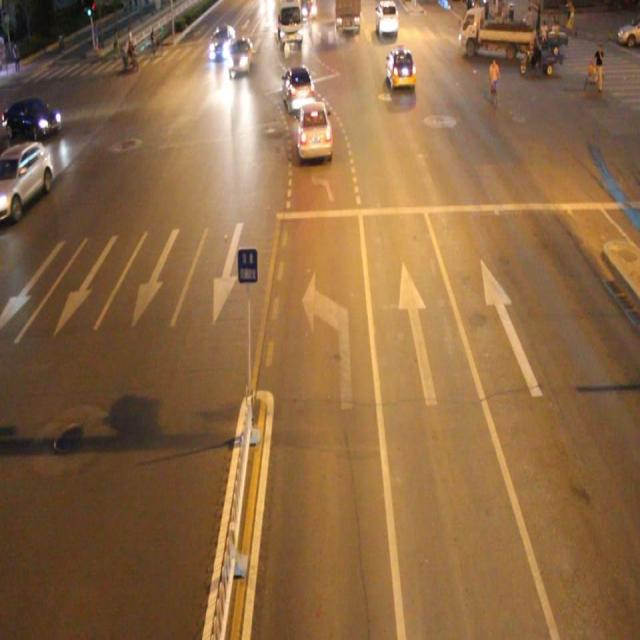car: (1, 139, 53, 224), (296, 100, 335, 163), (281, 63, 317, 116), (386, 47, 416, 89)
